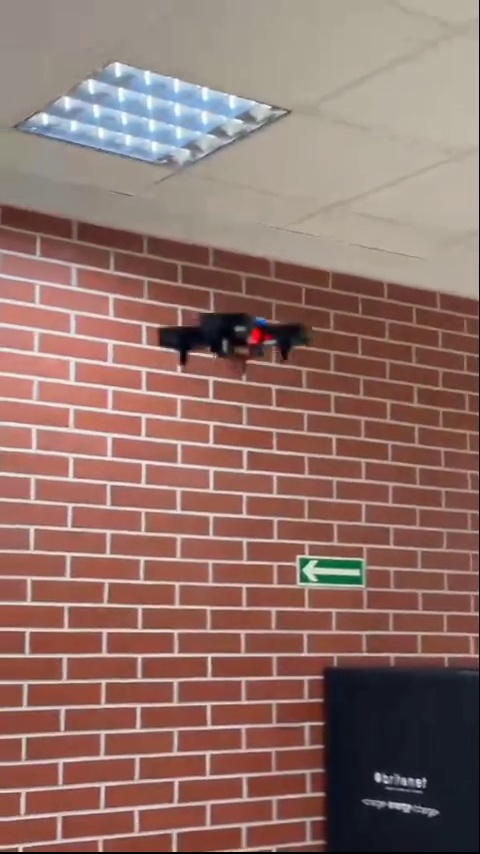drone: (162, 308, 309, 377)
